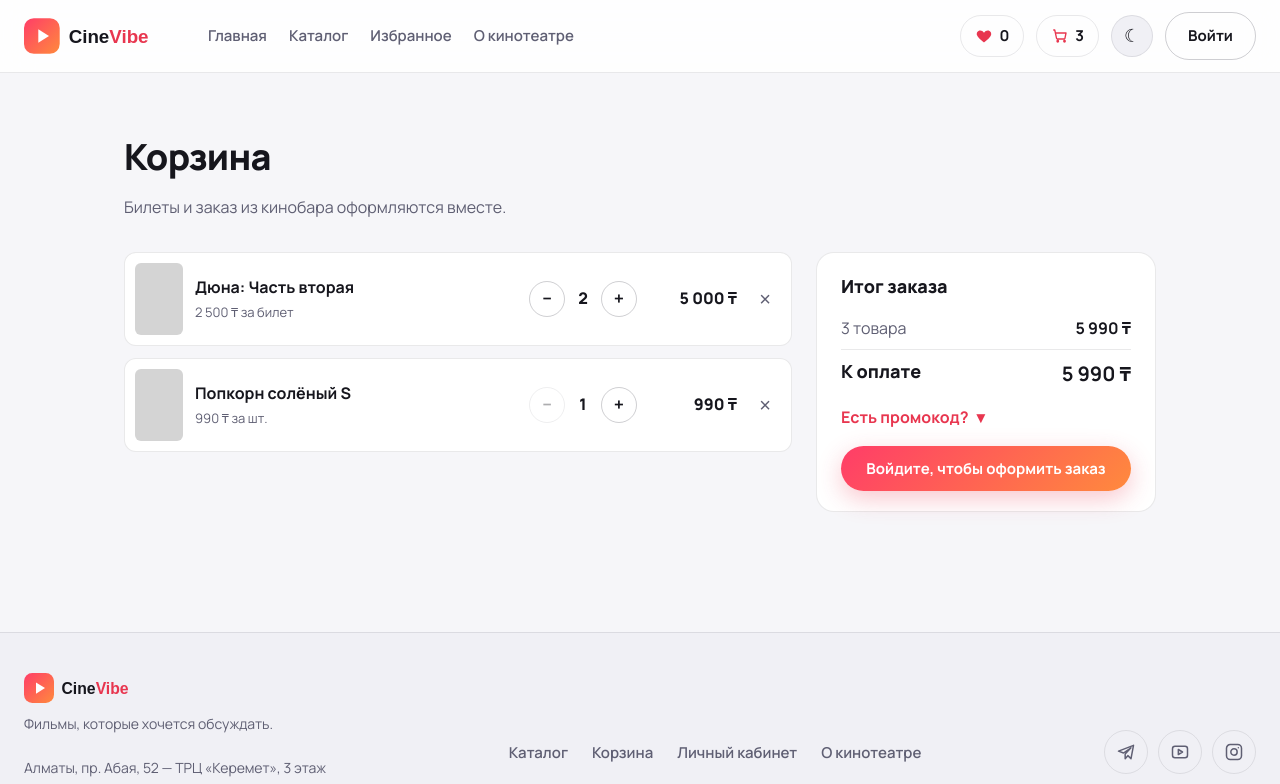
Test: Корзина /cart › удаление через подтверждение: «Отмена» оставляет товар, «Удалить» убирает
The width and height of the screenshot is (1280, 784).
Click the button named "Удалить «Попкорн солёный S»": click(765, 405) [749, 389, 781, 421]
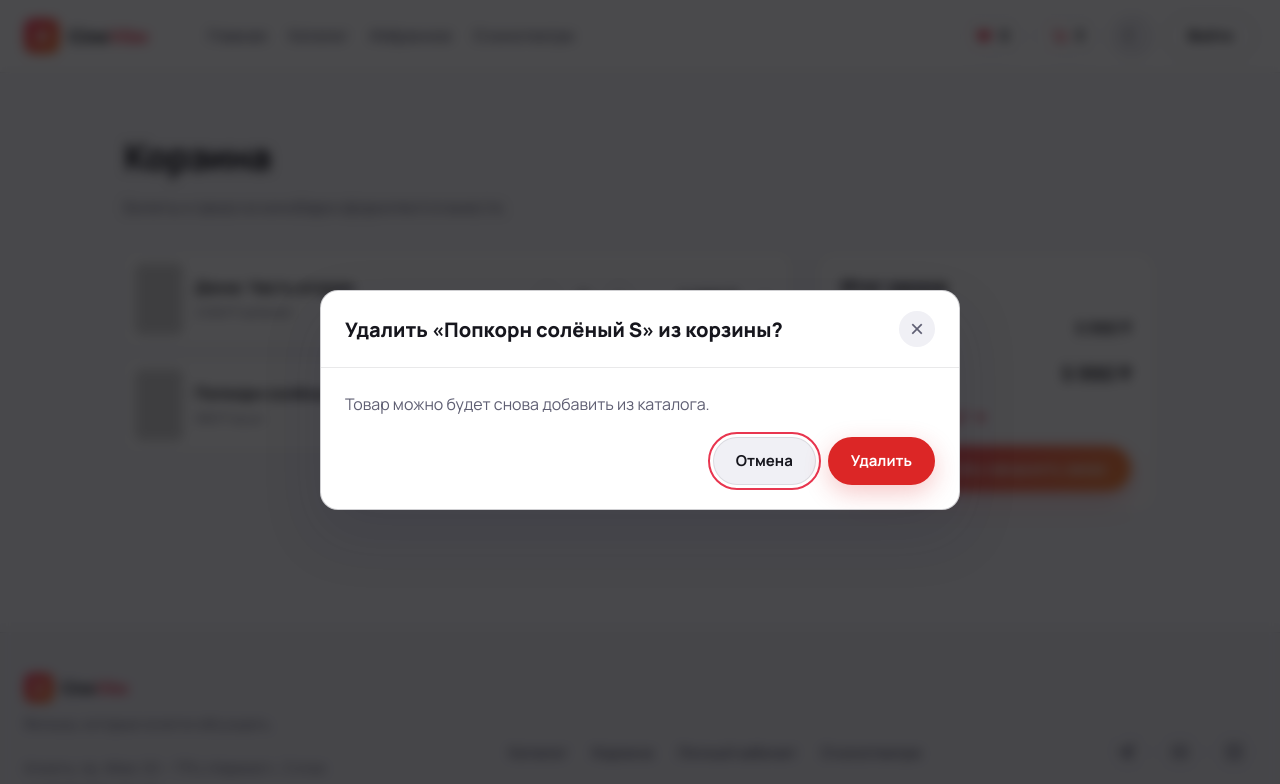
expect the dialog shows "Удалить «Попкорн солёный S» из корзины?": met, box [345, 316, 783, 343]
Click the button "Отмена": click(764, 461) [713, 437, 816, 485]
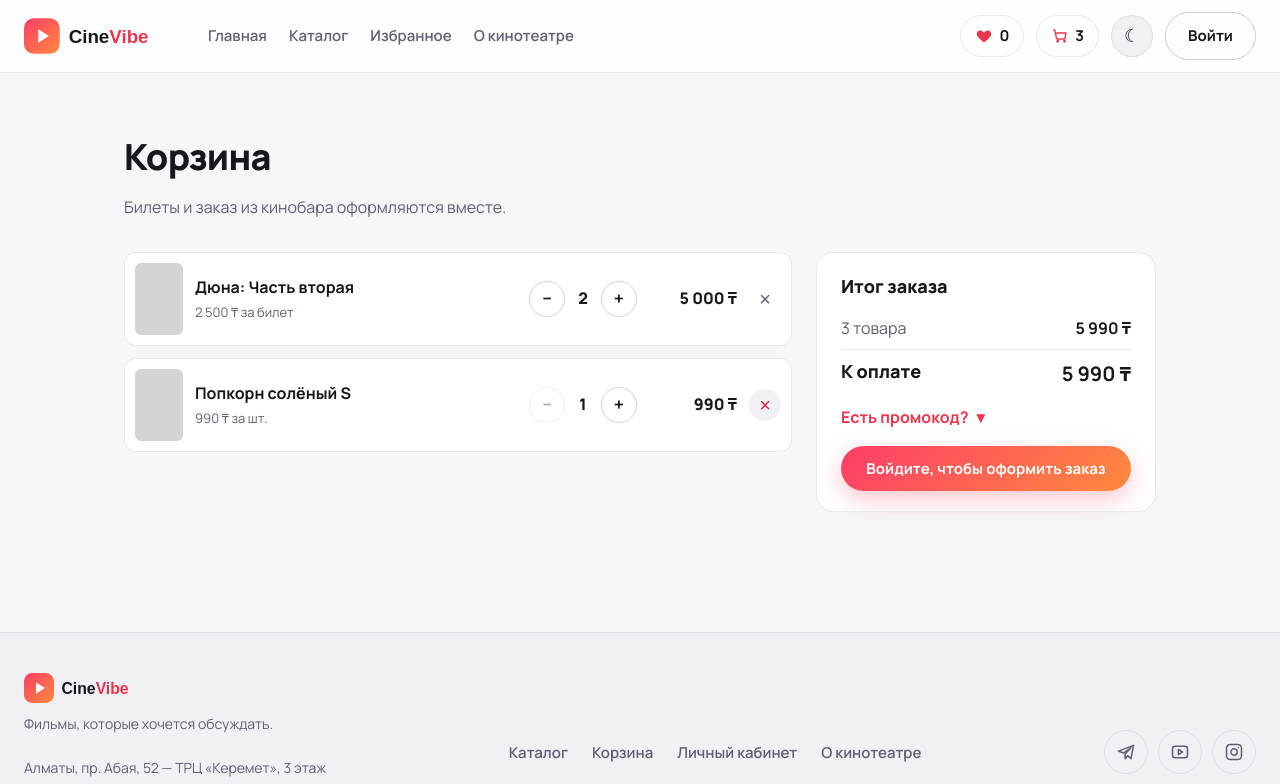
expect the link "Попкорн солёный S" is shown: met, box [195, 382, 351, 404]
Click the button named "Удалить «Попкорн солёный S»": click(765, 405) [749, 389, 781, 421]
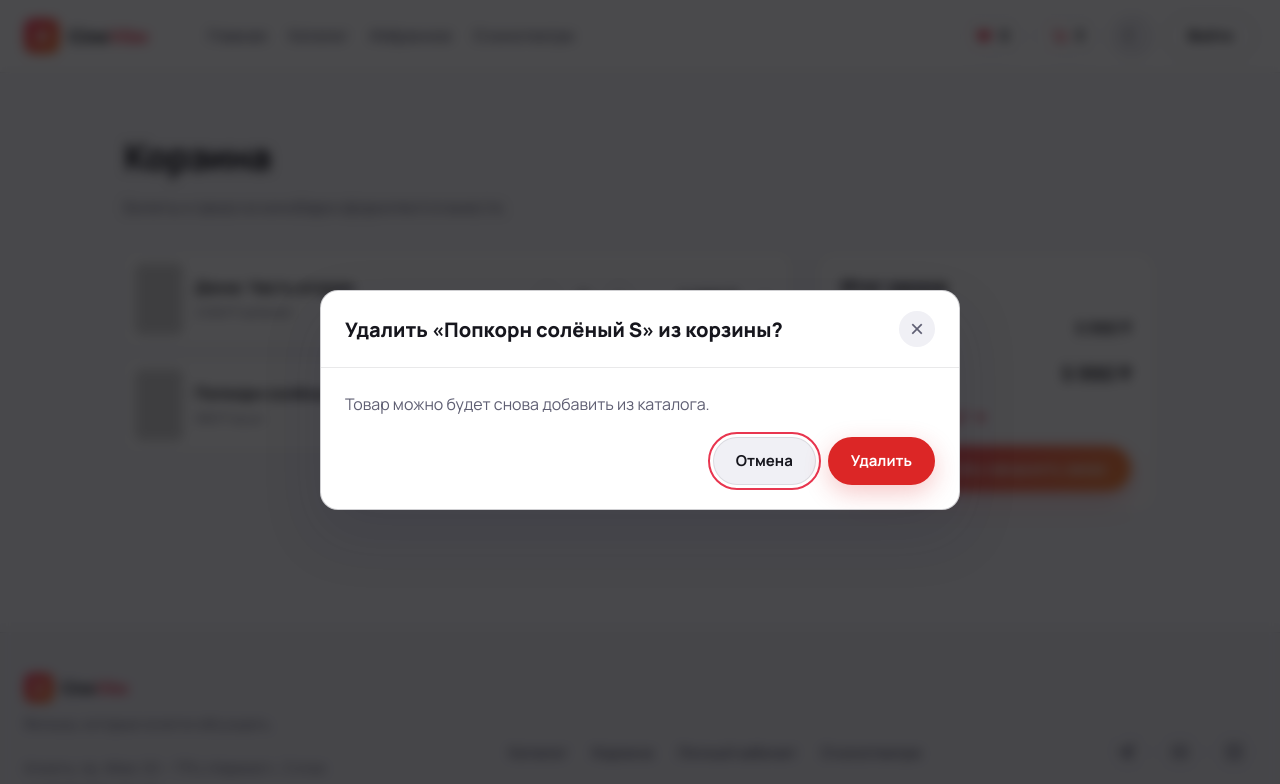
Click the button "Удалить": click(881, 461) [828, 437, 935, 485]
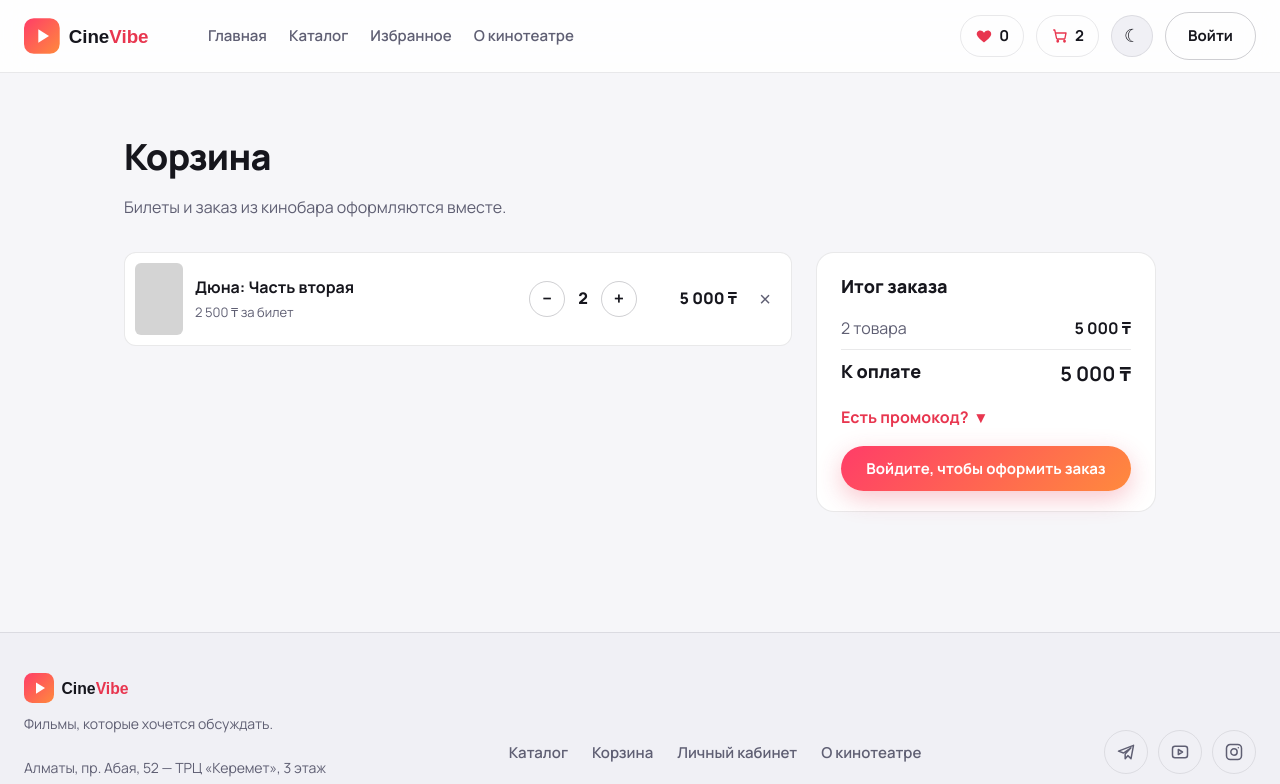
expect the link "Попкорн солёный S" is gone: met
expect the element "Итог заказа" shows "5 000 ₸": met, box [1074, 318, 1131, 340]
